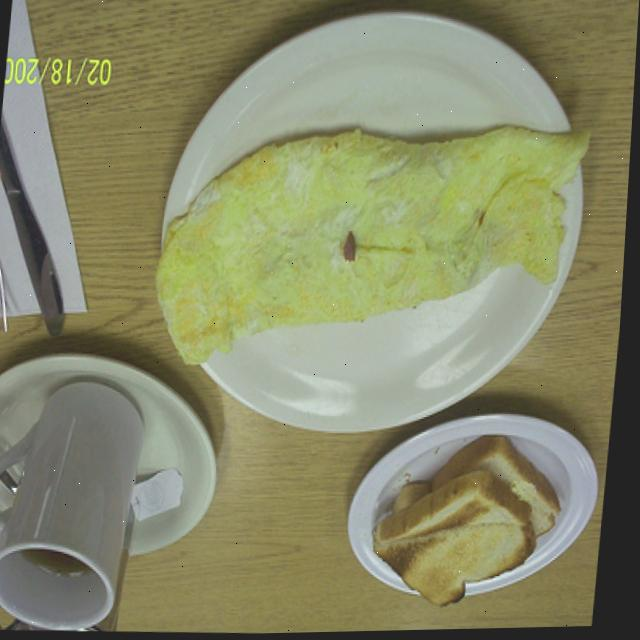鸡蛋料理: (151, 89, 603, 383)
